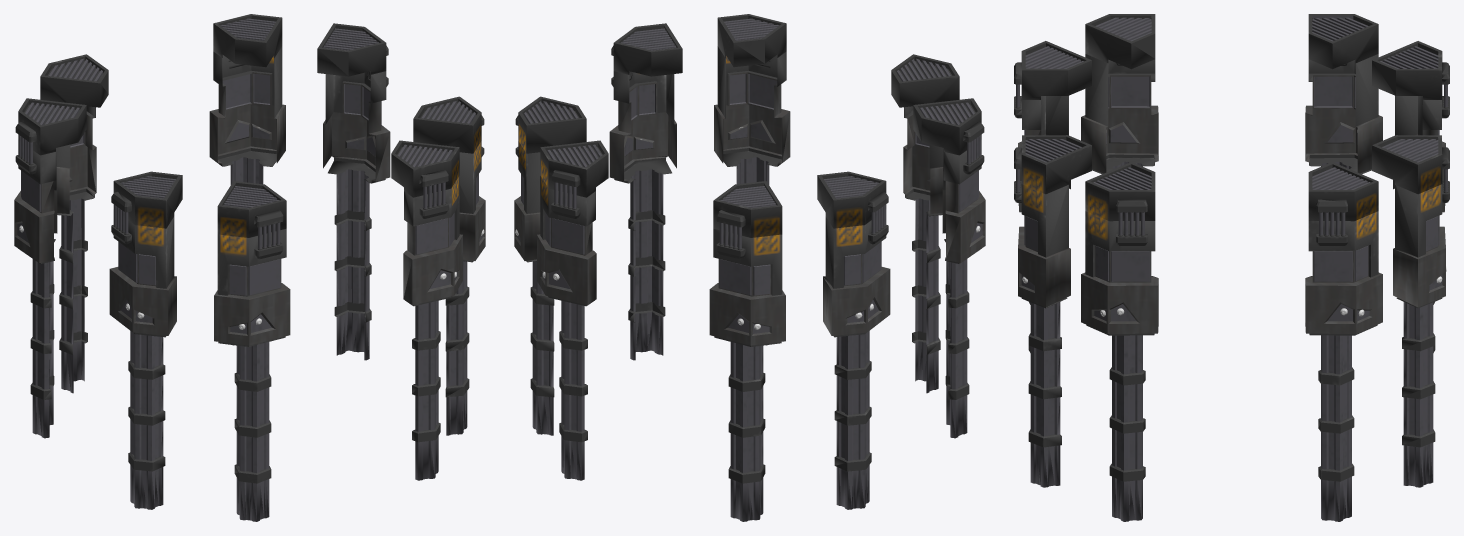
File: Heat_Exchanger.fbx
3 views of the same model, side by side, from view 1: azimuth 30°, elevation 25°; view 2: azimuth 150°, elevation 25°; view 3: azimuth 270°, elevation 25° (orthographic). The views are drawn at different scales.
Visible parts, largest first — view 1: Heat_Exchanger.003_2, Heat_Exchanger.005_1, Heat_Exchanger_2, Heat_Exchanger.002_2, Heat_Exchanger.007_2, Heat_Exchanger.002_1, Heat_Exchanger.001_2, Heat_Exchanger.005_2, Heat_Exchanger.004_1, Heat_Exchanger.006_1, Heat_Exchanger.003_1, Heat_Exchanger.004_2 (+16 smaller); view 2: Heat_Exchanger.007_1, Heat_Exchanger.001_2, Heat_Exchanger.004_2, Heat_Exchanger.006_2, Heat_Exchanger.003_1, Heat_Exchanger.006_1, Heat_Exchanger.005_1, Heat_Exchanger.001_1, Heat_Exchanger_1, Heat_Exchanger.002_1, Heat_Exchanger.007_2, Heat_Exchanger_2 (+16 smaller); view 3: Heat_Exchanger.004_1, Heat_Exchanger_1, Heat_Exchanger.005_2, Heat_Exchanger.001_1, Heat_Exchanger.001_2, Heat_Exchanger.005_1, Heat_Exchanger.003_1, Heat_Exchanger.007_2, Heat_Exchanger.003_2, Heat_Exchanger.007_1, Thermal_Radiator, Thermal_Radiator.004 (+14 smaller).
Part boxes in pixels (bbox=[...]): Heat_Exchanger.003_2: bbox=[127, 216, 176, 509]; Heat_Exchanger.005_1: bbox=[323, 72, 372, 355]; Heat_Exchanger_2: bbox=[403, 191, 446, 480]; Heat_Exchanger.002_2: bbox=[214, 234, 259, 520]; Heat_Exchanger.007_2: bbox=[19, 150, 56, 438]; Heat_Exchanger.002_1: bbox=[250, 228, 290, 521]; Heat_Exchanger.001_2: bbox=[445, 141, 485, 435]; Heat_Exchanger.005_2: bbox=[356, 71, 390, 360]; Heat_Exchanger.004_1: bbox=[241, 46, 285, 184]; Heat_Exchanger.006_1: bbox=[69, 106, 96, 381]; Heat_Exchanger.003_1: bbox=[109, 209, 143, 508]; Heat_Exchanger.004_2: bbox=[209, 51, 250, 345]; Heat_Exchanger.007_1: bbox=[823, 216, 872, 509]; Heat_Exchanger.001_2: bbox=[627, 72, 676, 355]; Heat_Exchanger.004_2: bbox=[553, 191, 596, 480]; Heat_Exchanger.006_2: bbox=[740, 234, 785, 520]; Heat_Exchanger.003_1: bbox=[943, 150, 980, 438]; Heat_Exchanger.006_1: bbox=[709, 228, 749, 521]; Heat_Exchanger.005_1: bbox=[514, 141, 554, 435]; Heat_Exchanger.001_1: bbox=[609, 71, 643, 360]; Heat_Exchanger_1: bbox=[714, 46, 758, 184]; Heat_Exchanger.002_1: bbox=[903, 106, 930, 381]; Heat_Exchanger.007_2: bbox=[856, 209, 890, 508]; Heat_Exchanger_2: bbox=[749, 51, 790, 345]; Heat_Exchanger.004_1: bbox=[1393, 184, 1445, 487]; Heat_Exchanger_1: bbox=[1018, 184, 1070, 487]; Heat_Exchanger.005_2: bbox=[1305, 221, 1347, 521]; Heat_Exchanger.001_1: bbox=[1117, 221, 1158, 521]; Heat_Exchanger.001_2: bbox=[1081, 211, 1119, 518]; Heat_Exchanger.005_1: bbox=[1344, 211, 1382, 518]; Heat_Exchanger.003_1: bbox=[1119, 59, 1158, 166]; Heat_Exchanger.007_2: bbox=[1305, 59, 1344, 166]; Heat_Exchanger.003_2: bbox=[1081, 54, 1119, 173]; Heat_Exchanger.007_1: bbox=[1344, 54, 1382, 173]; Thermal_Radiator: bbox=[1021, 135, 1091, 194]; Thermal_Radiator.004: bbox=[1372, 135, 1442, 194].
Size of the model in its own units: 26.19 by 22.16 by 26.19.
